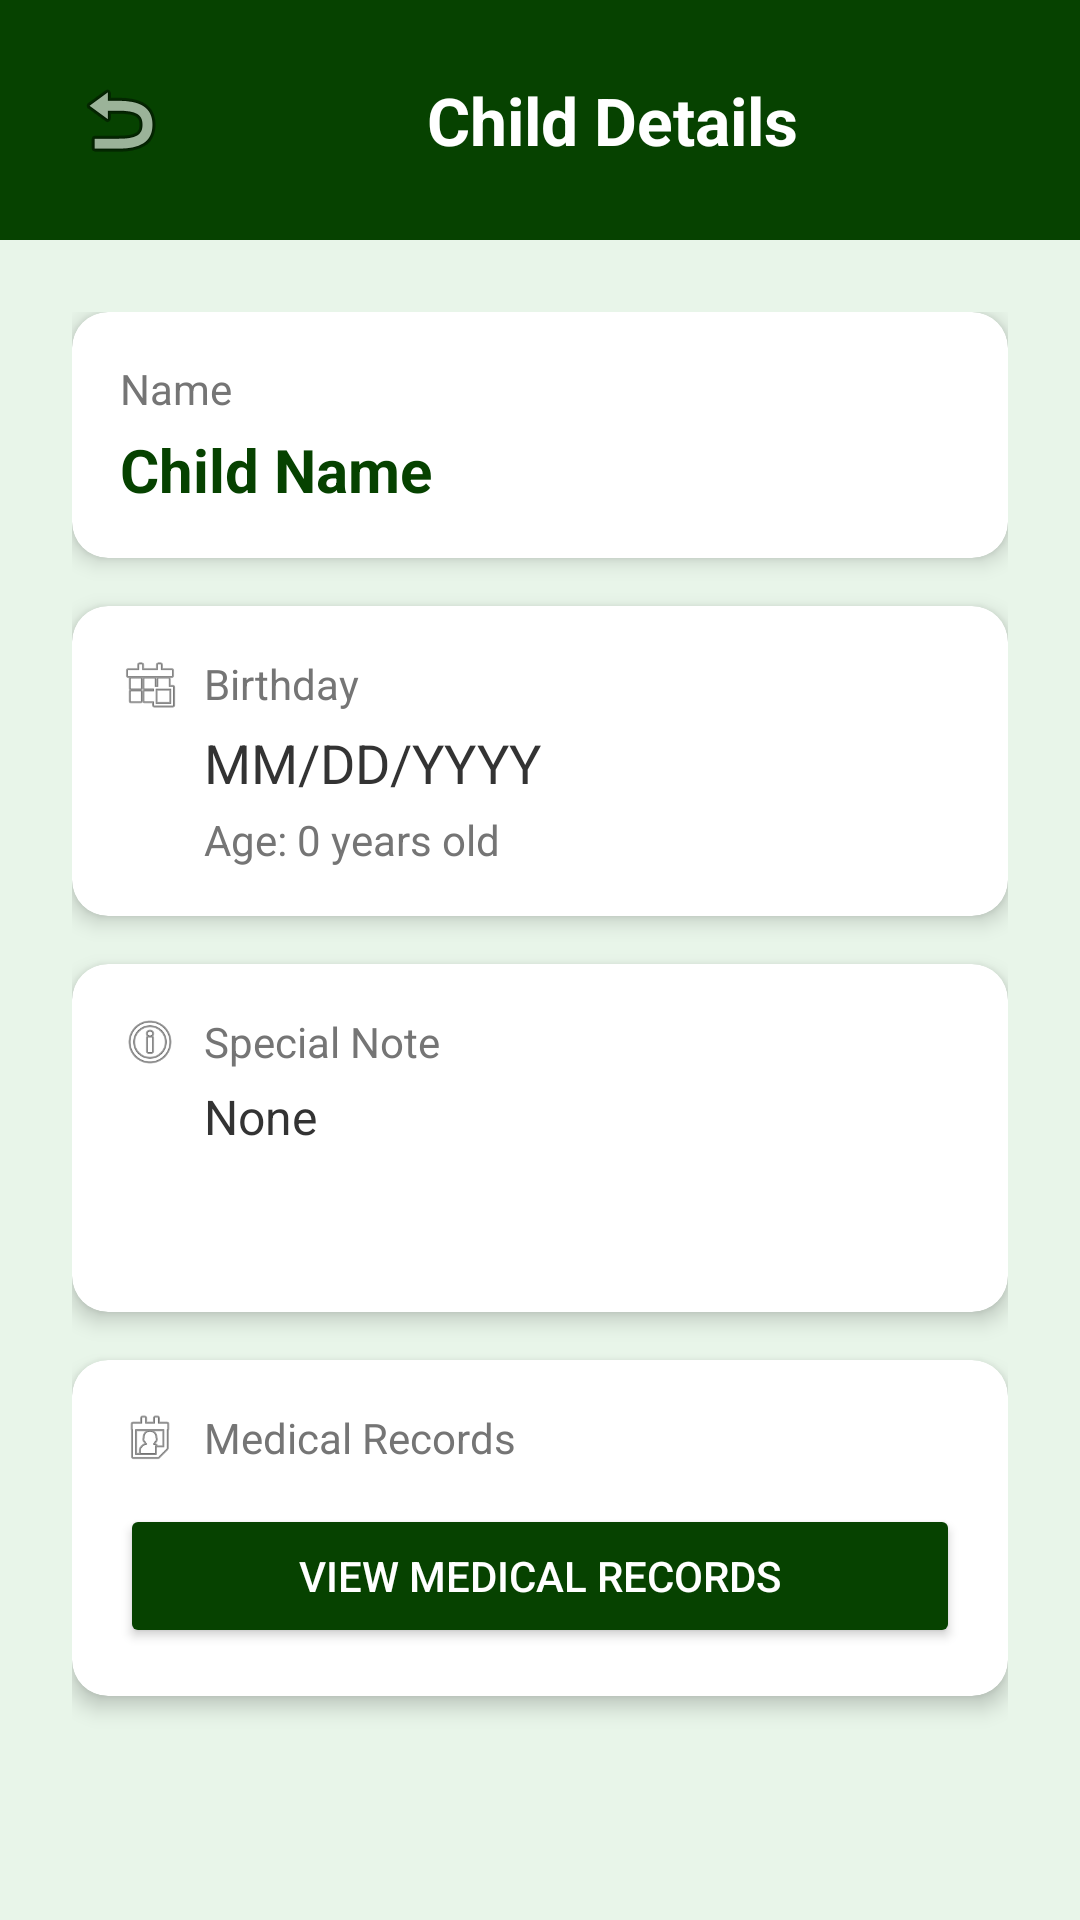

Where icons sit on this 1080px×1920px app screen, as (left=x1, top=y1, right=x2, bottom=y2):
Back: (left=87, top=90, right=155, bottom=151)
info details: (left=128, top=1020, right=172, bottom=1064)
today: (left=126, top=662, right=175, bottom=708)
